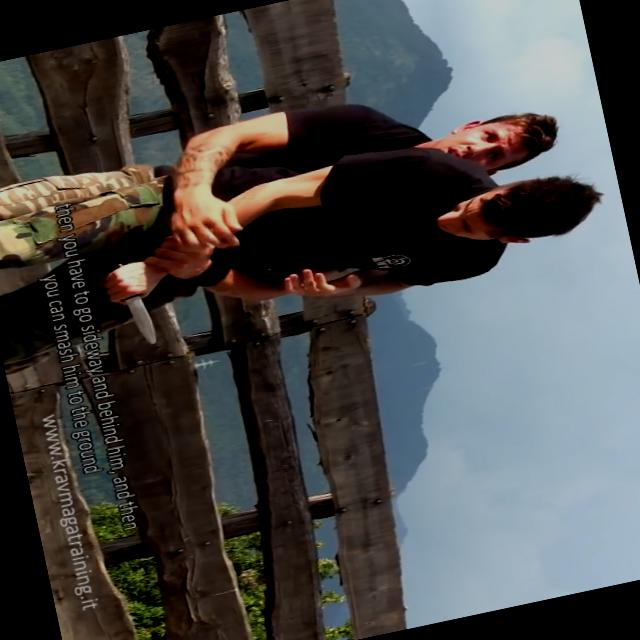knife: (92, 251, 178, 355)
